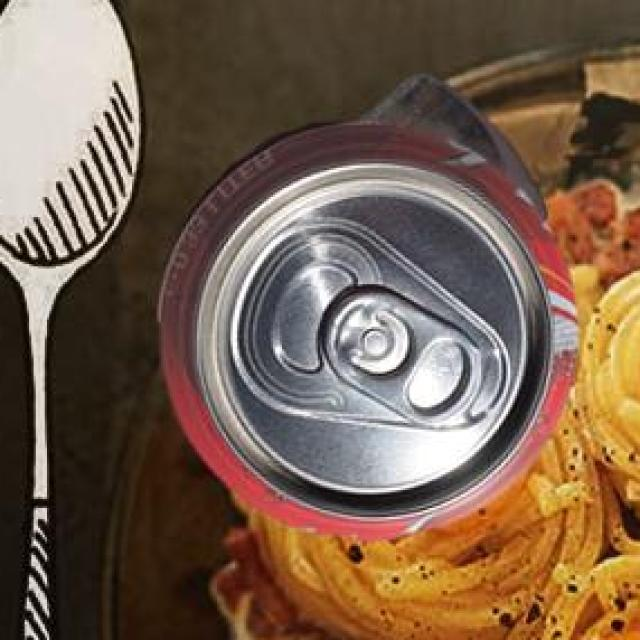logam: (162, 120, 581, 538), (361, 70, 549, 218)
